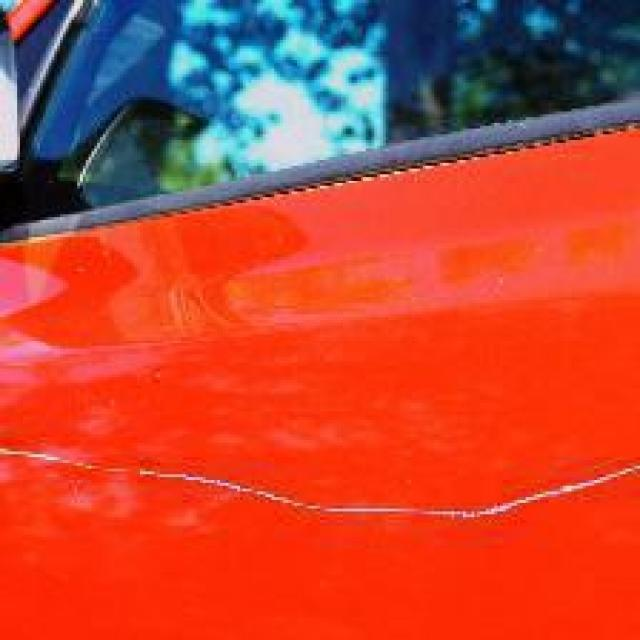damaged: (0, 446, 637, 523)
